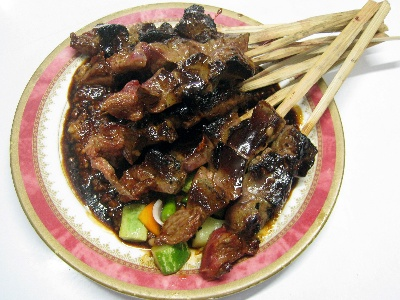sate: (68, 10, 393, 190)
